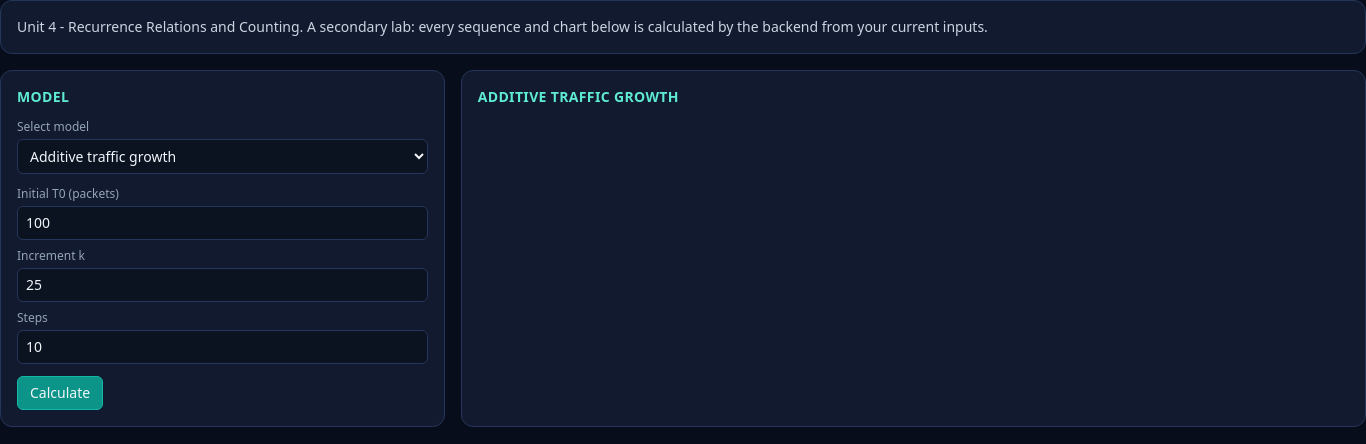
Test case: Math Lab › explains walk vs path vs route
Select "Walk vs path vs route" in the dropdown labelled "Select model": (222, 156) [17, 139, 428, 174]
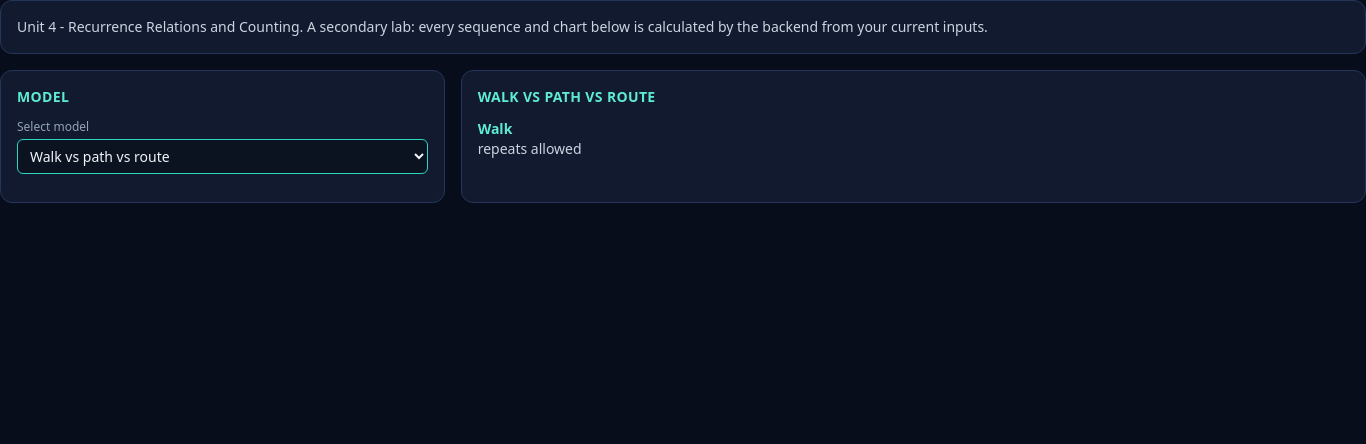
Now the text "repeats allowed" is shown, box [478, 139, 582, 158]
